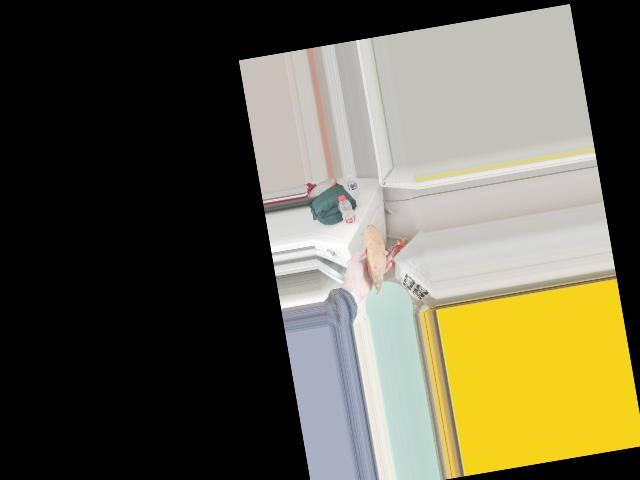sweet_potato: (356, 217, 389, 281)
